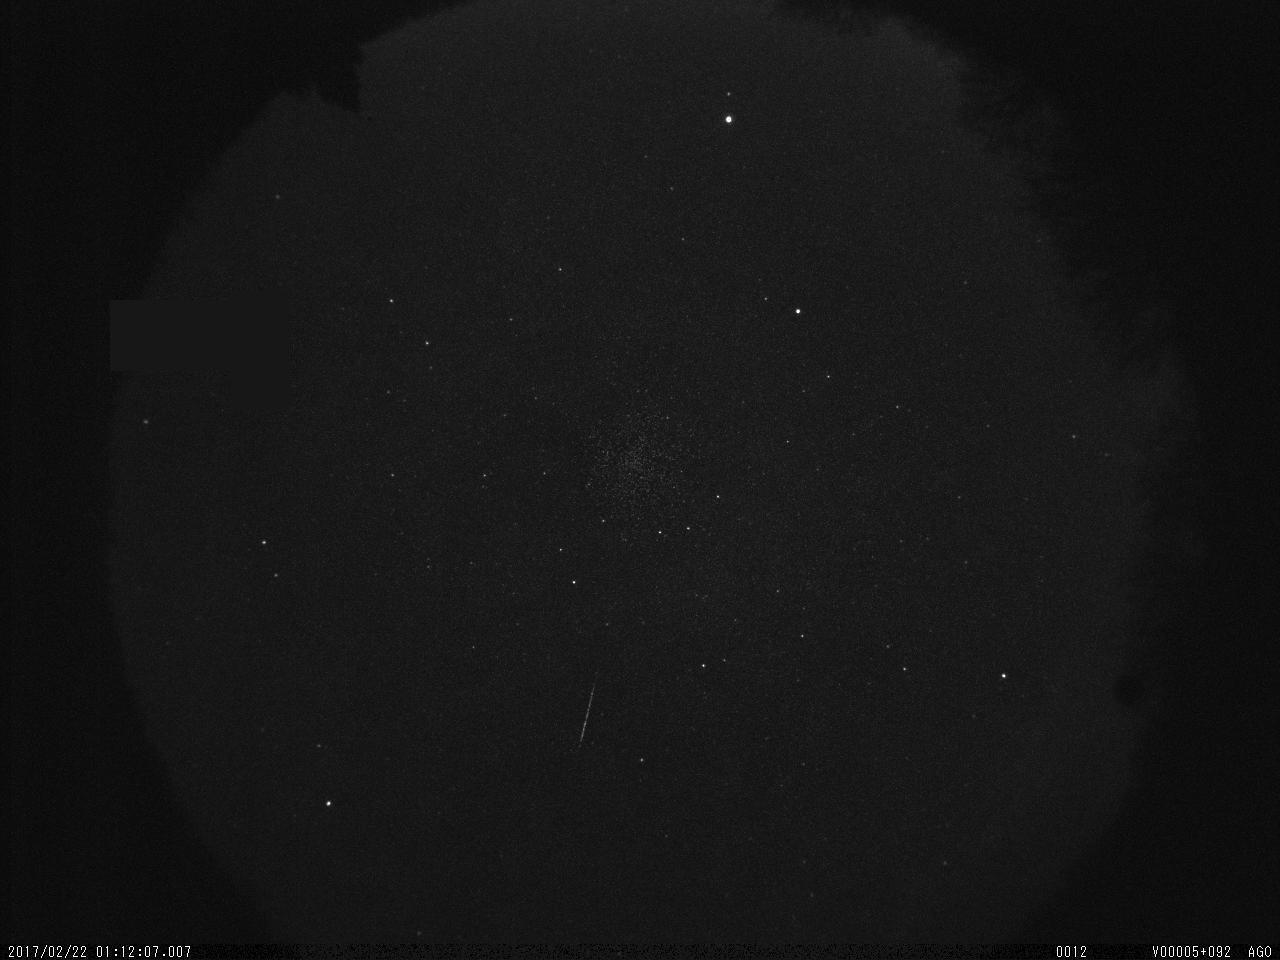Meteor: (570, 659, 606, 761)
